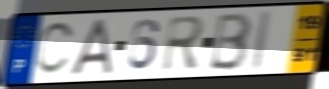6: (127, 18, 161, 73)
A: (68, 17, 114, 78)
B: (207, 11, 254, 73)
C: (34, 19, 78, 77)
I: (247, 8, 274, 73)
R: (160, 14, 207, 74)
